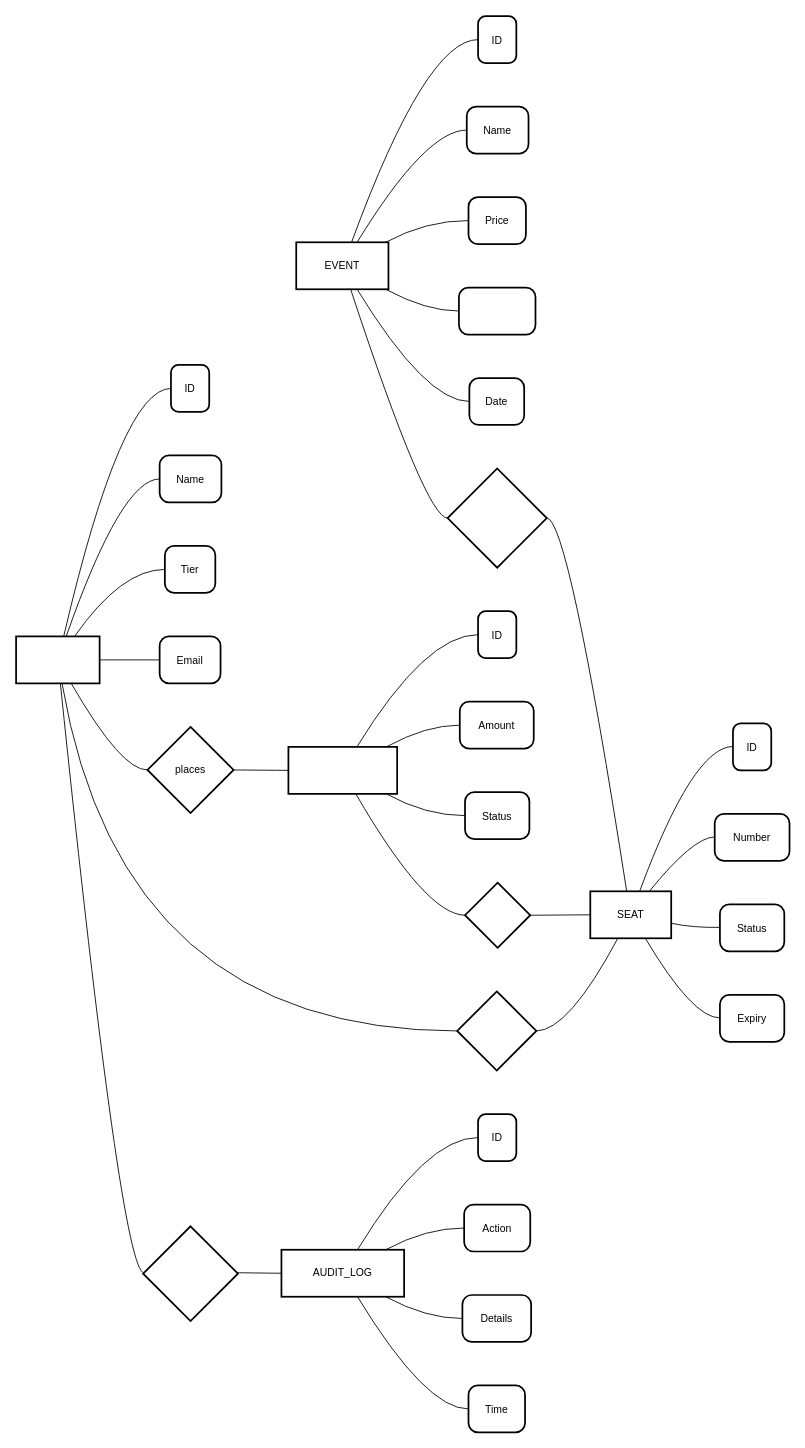
This 805x1448 diagram has some shape labels left out. Each missing label, with the box of its shape:
BOOKING: (287, 746, 398, 794)
contains: (446, 467, 547, 568)
Demand: (458, 286, 536, 335)
for: (464, 881, 531, 948)
holds: (456, 990, 537, 1071)
triggers: (142, 1225, 238, 1322)
USER: (15, 635, 100, 684)
